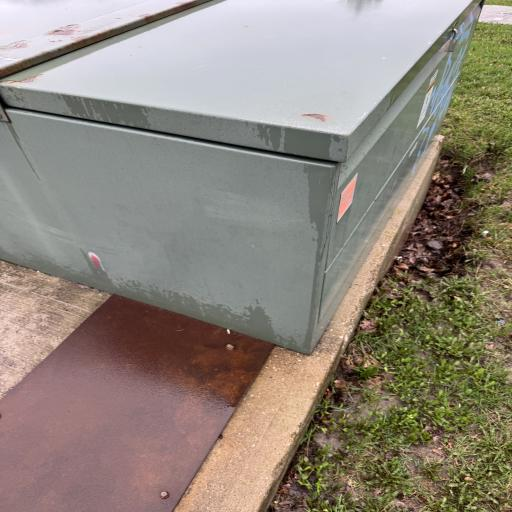Electrical Box: (1, 3, 483, 354)
